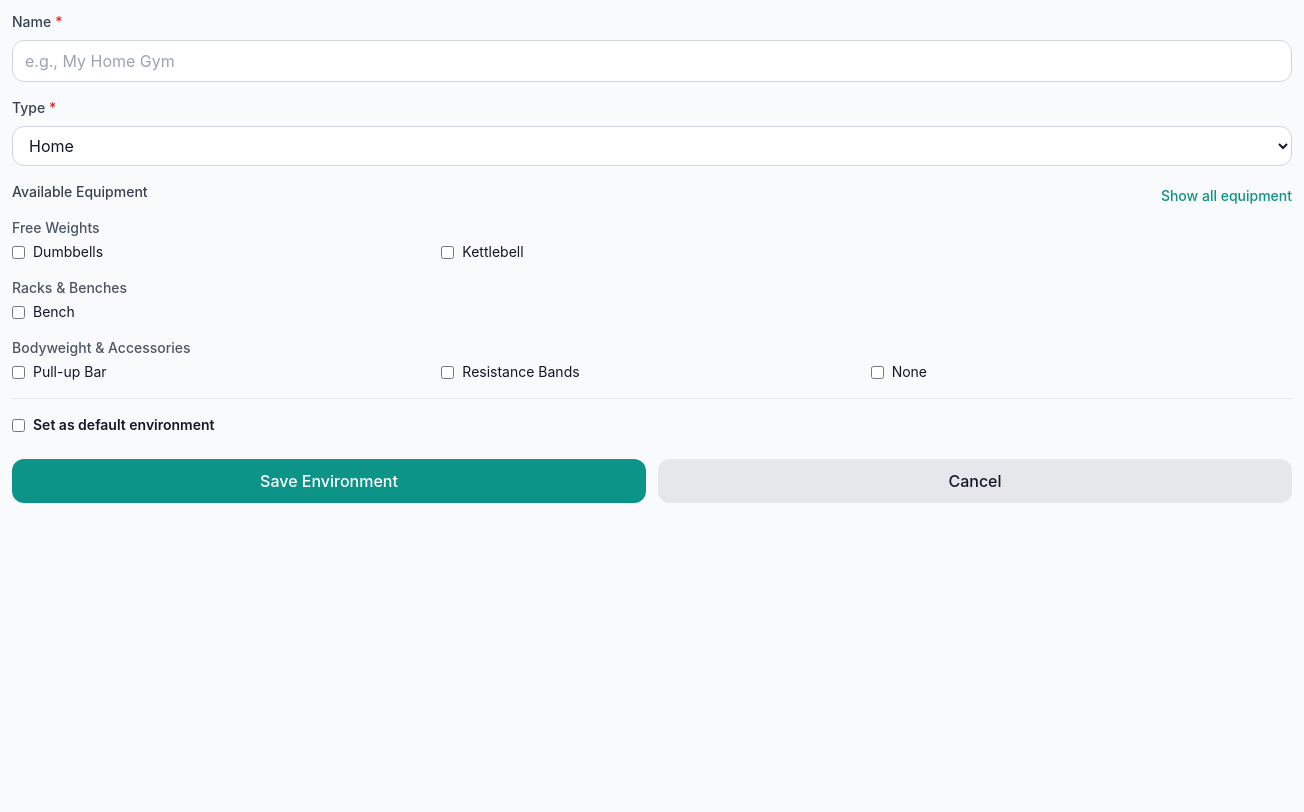
TrainingEnvironmentForm › should narrow the visible equipment to the archetype preset by default
Select "Powerlifting Gym" in the dropdown labelled "Type *" at coordinates (652, 146), box [12, 126, 1292, 166]
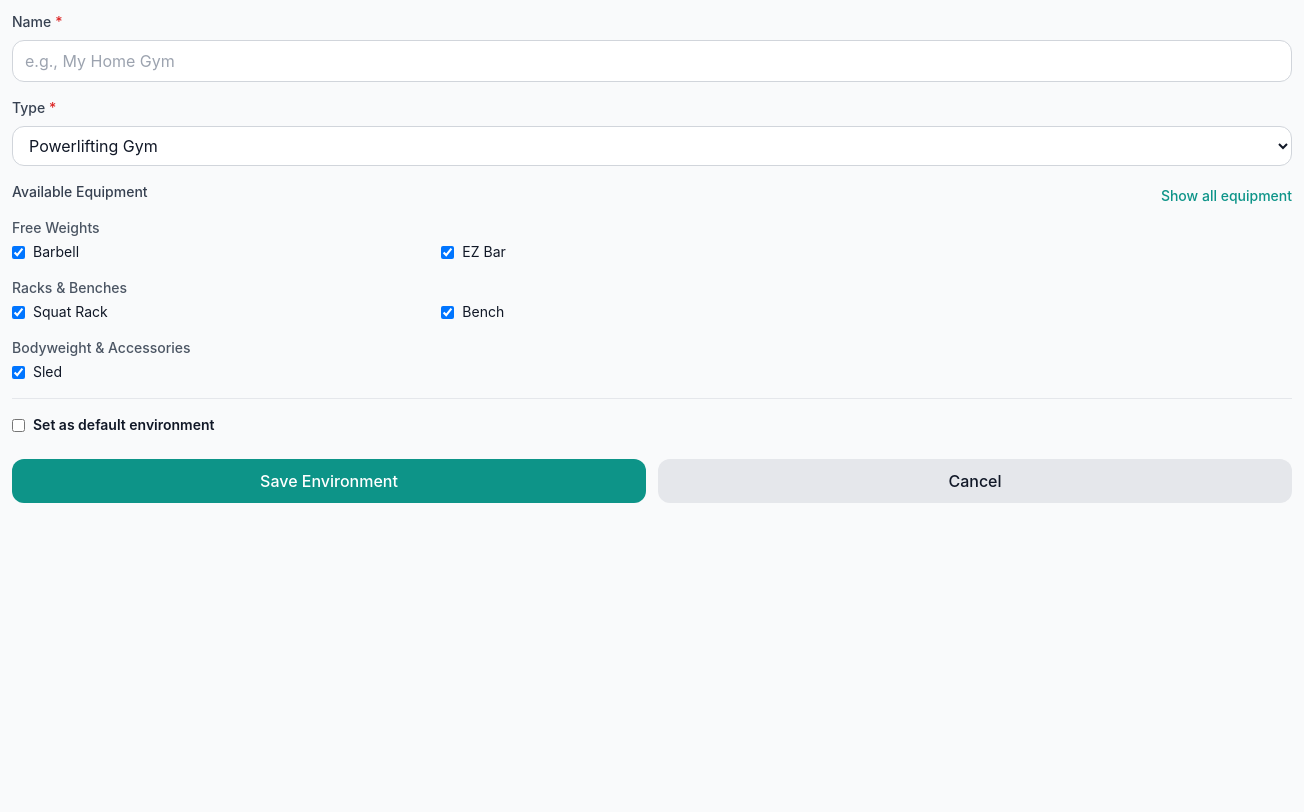
Expected: the field labelled "Leg Press" is not shown
Click the button "Show all equipment".
click(1226, 196)  # box [1161, 186, 1292, 206]
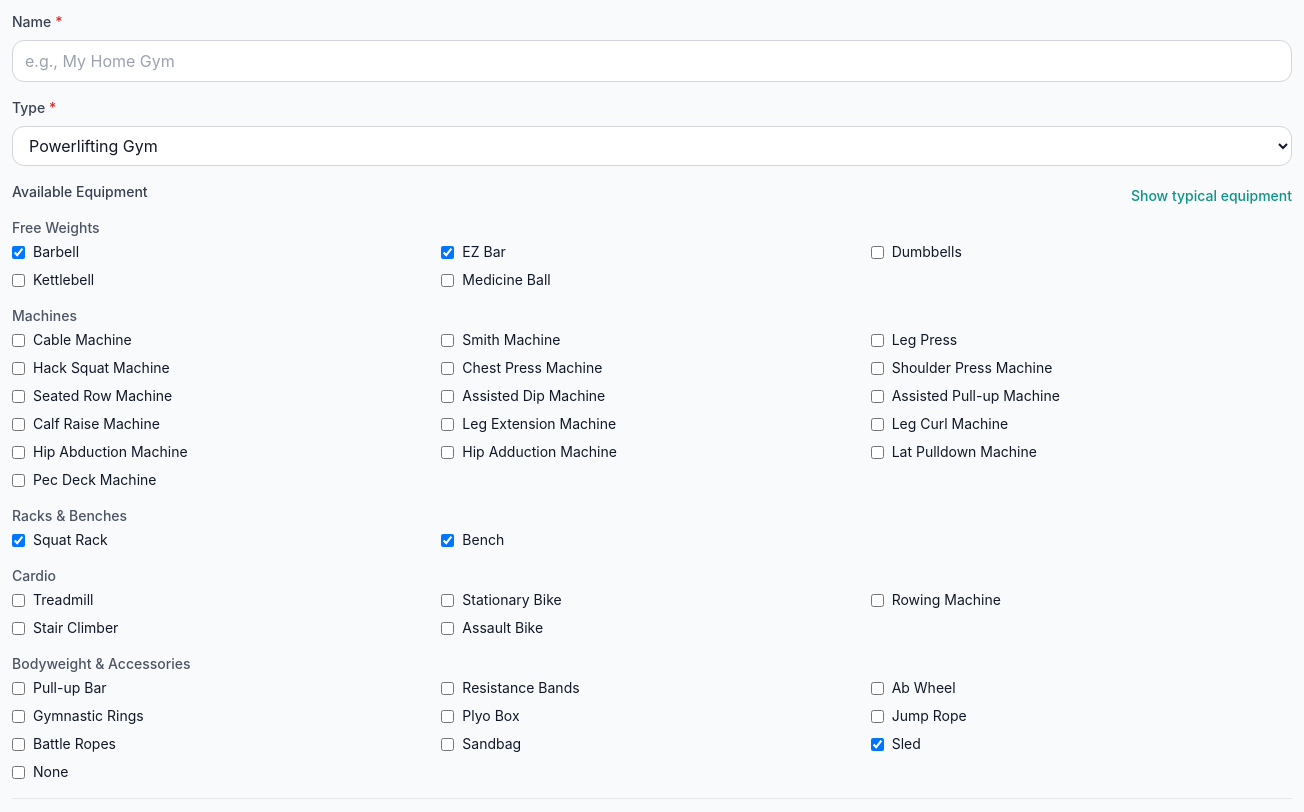
Expected: the checkbox labelled "Leg Press" is shown, [871, 334, 884, 346]
